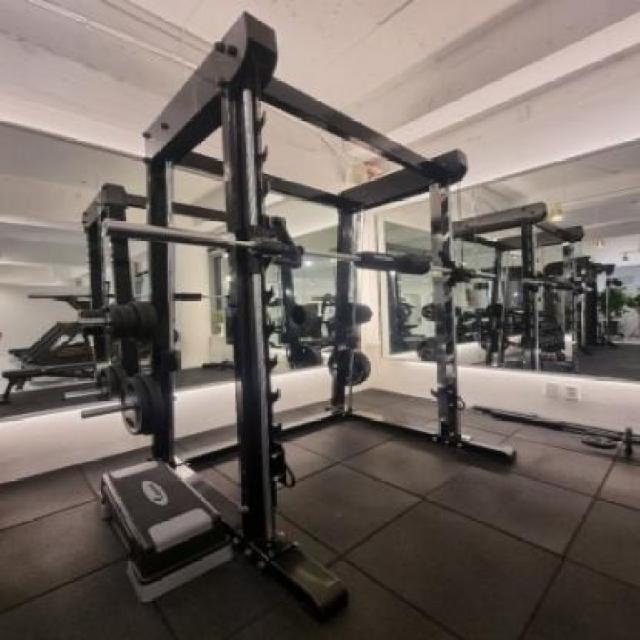smith machine: (145, 11, 472, 624)
